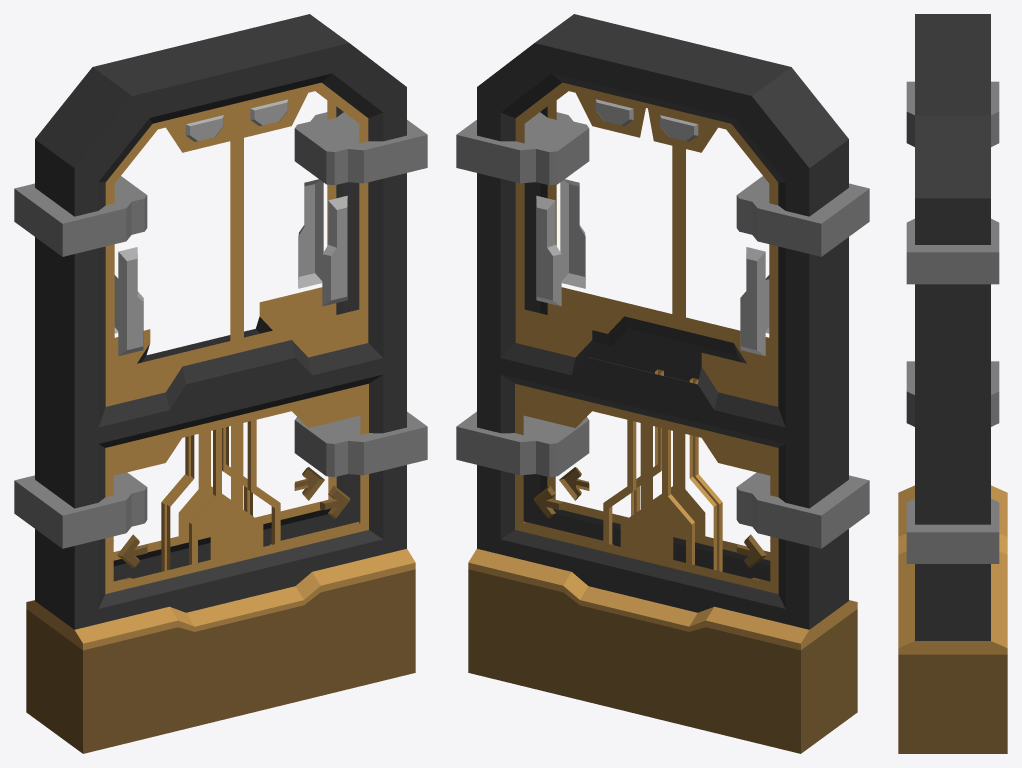
The model's file is doorsingle.fbx.
The picture shows the model from 3 angles, left to right: view 1: azimuth 30°, elevation 25°; view 2: azimuth 150°, elevation 25°; view 3: azimuth 270°, elevation 25°; orthographic projection. The views are drawn at different scales.
Visible parts, largest first — view 1: Door_Single; view 2: Door_Single; view 3: Door_Single.
Boxes of the visible parts, box(x1,y1,x2,y2) form: Door_Single: box(14, 14, 427, 753); Door_Single: box(456, 14, 869, 753); Door_Single: box(898, 14, 1007, 753).
Bounding box in the file's own units: 167 × 279 × 45.14.
